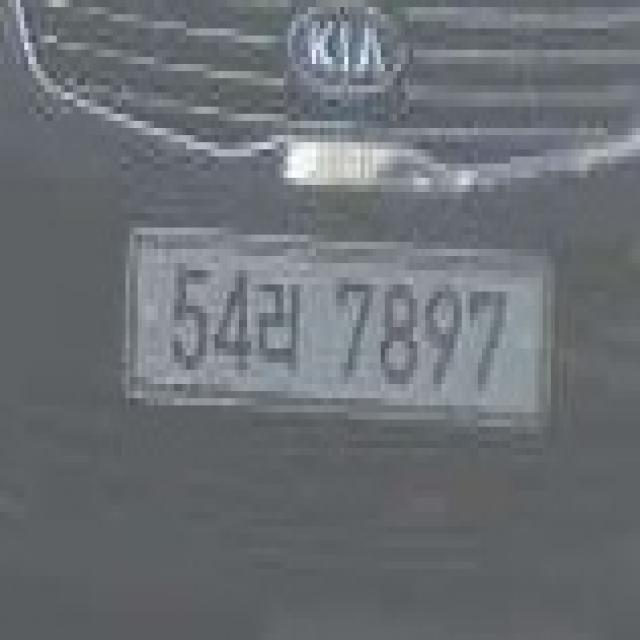4: (211, 221, 259, 391)
5: (162, 220, 211, 384)
7: (462, 270, 514, 391), (332, 270, 377, 384)
8: (377, 263, 421, 405)
9: (417, 270, 462, 398)
leo: (251, 263, 312, 384)
license_plate: (105, 213, 555, 434)
